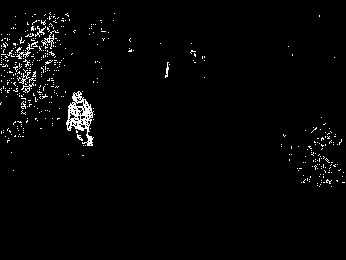person: (65, 89, 95, 151)
